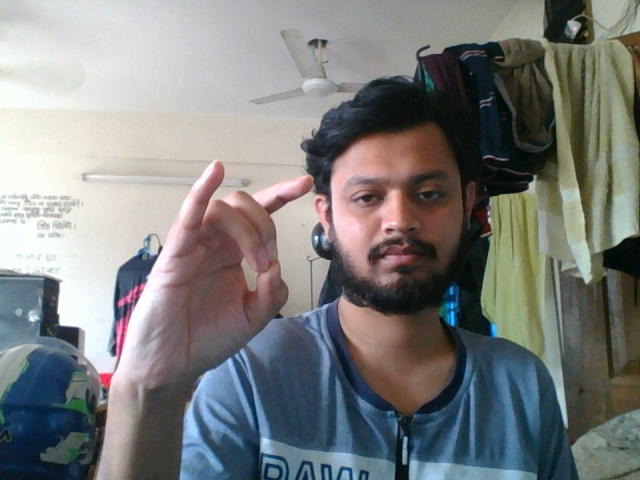cha: (106, 149, 320, 458)
